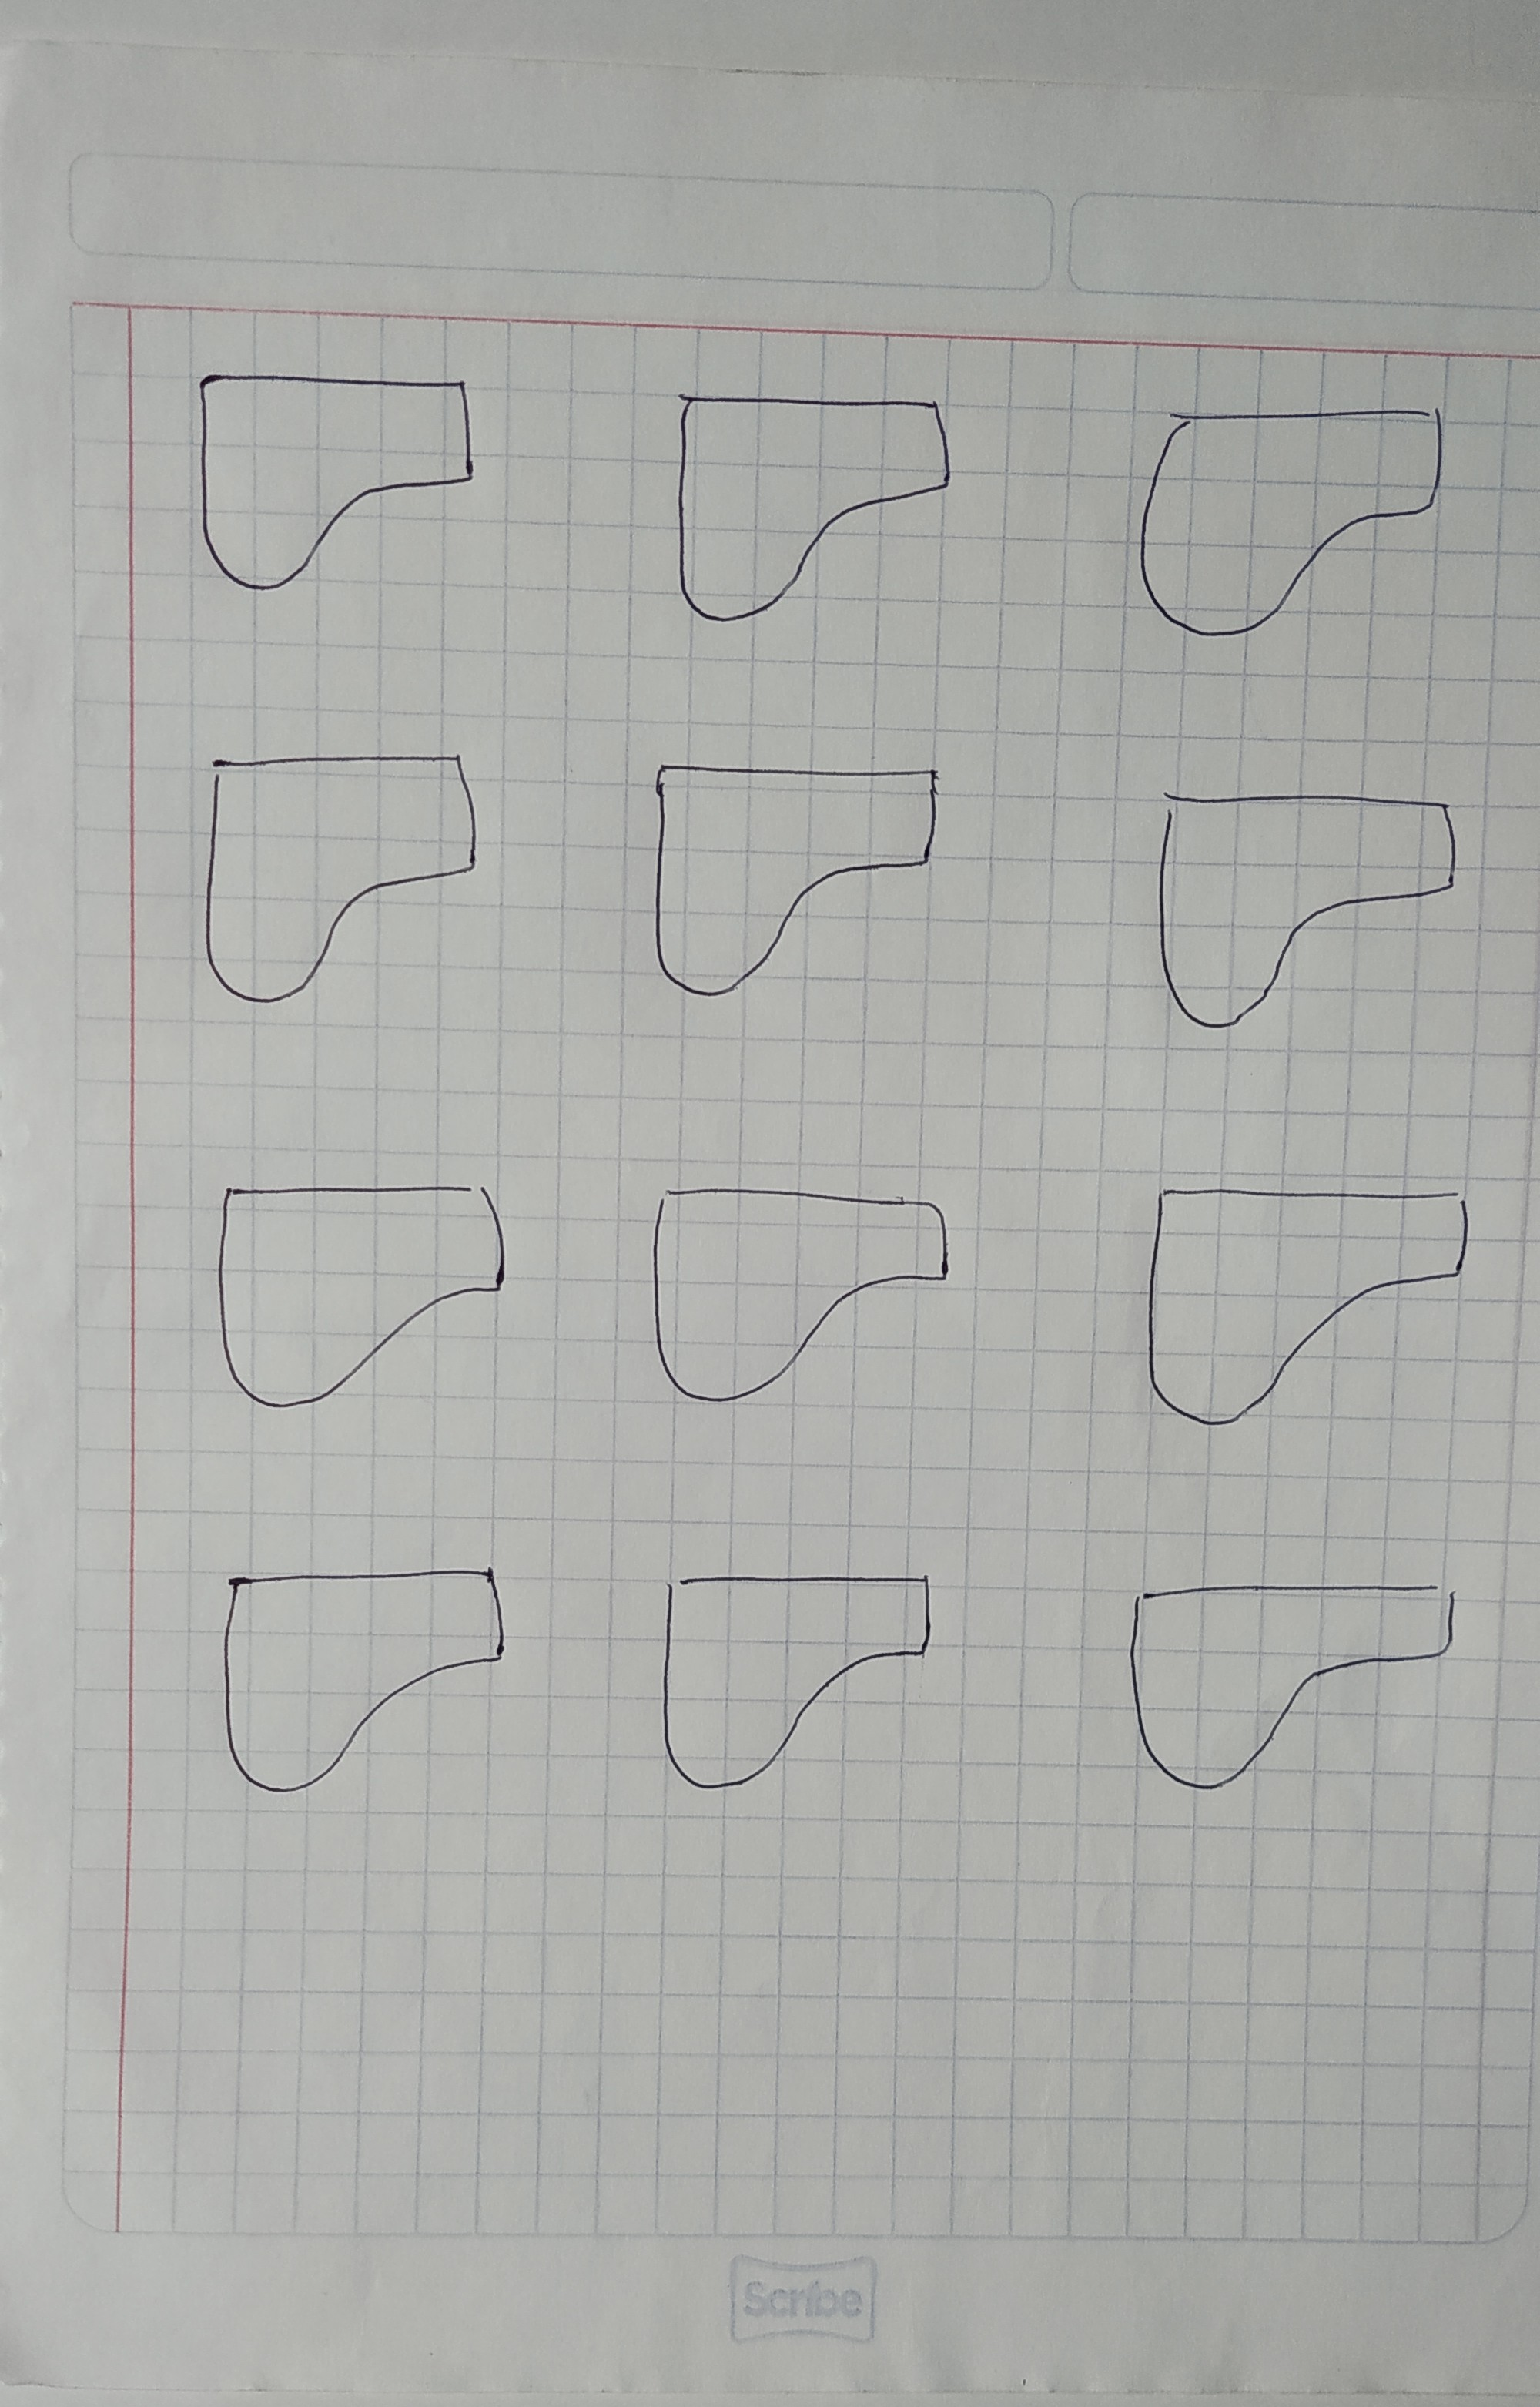print: (1131, 1167, 1479, 1442), (1149, 777, 1468, 1037), (1131, 395, 1452, 651), (195, 737, 488, 1012), (651, 379, 965, 635), (1121, 1565, 1461, 1800), (644, 747, 947, 1011), (207, 1167, 512, 1426), (645, 1553, 949, 1803), (209, 1553, 517, 1798), (644, 1175, 954, 1418), (184, 354, 488, 595)
